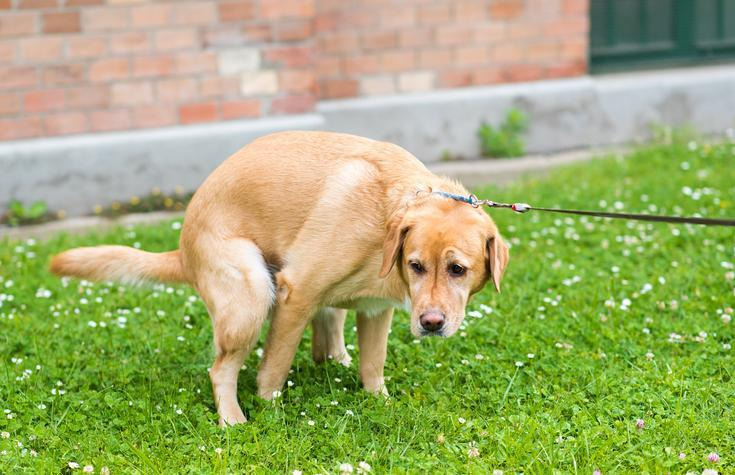dog_pooping: (42, 123, 522, 436)
